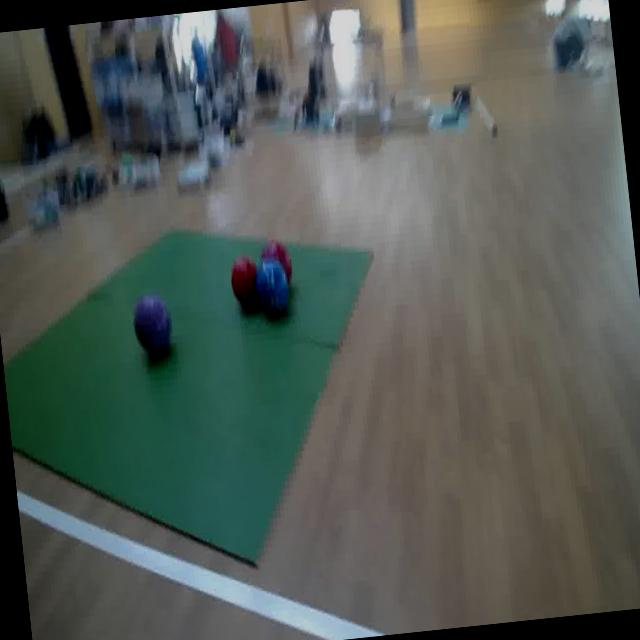blue_ball: (252, 256, 291, 323)
purple_ball: (128, 288, 176, 358)
red_ball: (256, 234, 296, 290), (229, 252, 262, 308)
